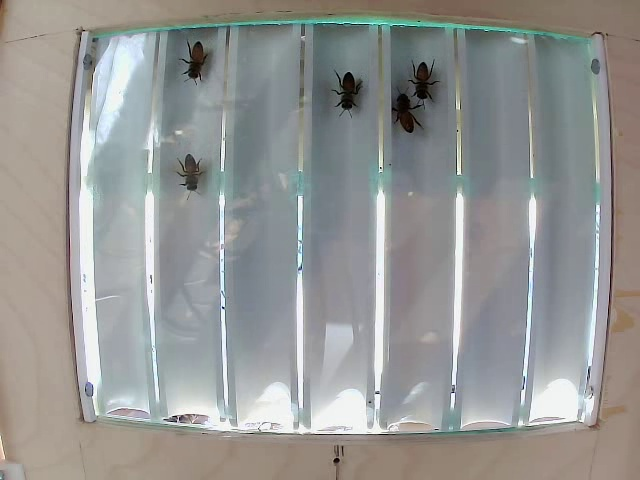bee: (181, 42, 227, 93), (173, 149, 203, 198), (329, 61, 360, 108), (389, 91, 409, 133), (412, 63, 431, 102)
